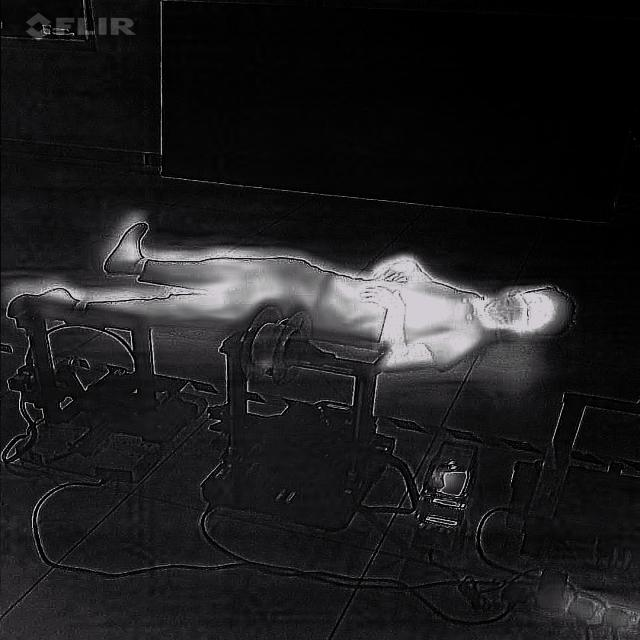Victim: (0, 215, 587, 369)
